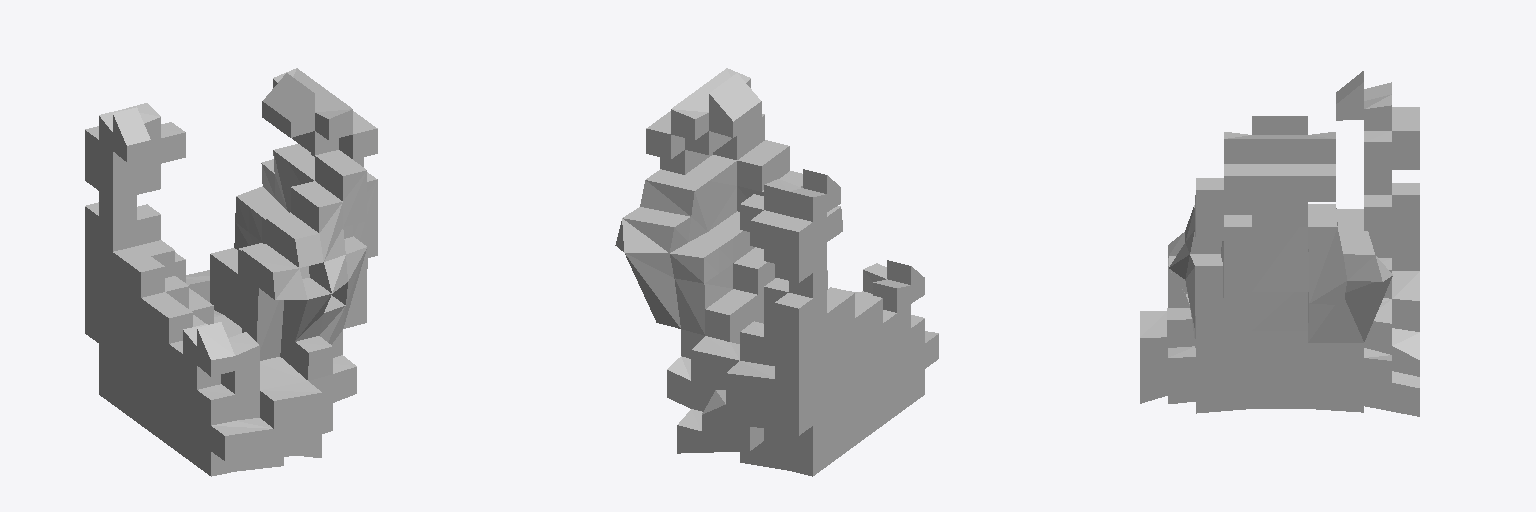
Rendered from Mini-Bot_Wizard_LOD0-0.obj.
The picture shows the model from 3 angles: view 1: azimuth 30°, elevation 25°; view 2: azimuth 150°, elevation 25°; view 3: azimuth 270°, elevation 25°; orthographic projection.
Visible parts, largest first — view 1: Mini-Bot_Wizard_LOD0-0; view 2: Mini-Bot_Wizard_LOD0-0; view 3: Mini-Bot_Wizard_LOD0-0.
Boxes of the visible parts, x1=… form: Mini-Bot_Wizard_LOD0-0: x1=85, y1=68, x2=377, y2=476; Mini-Bot_Wizard_LOD0-0: x1=615, y1=68, x2=938, y2=476; Mini-Bot_Wizard_LOD0-0: x1=1140, y1=71, x2=1419, y2=416.
Bounding box in the file's own units: 0.8317 × 1.27 × 1.